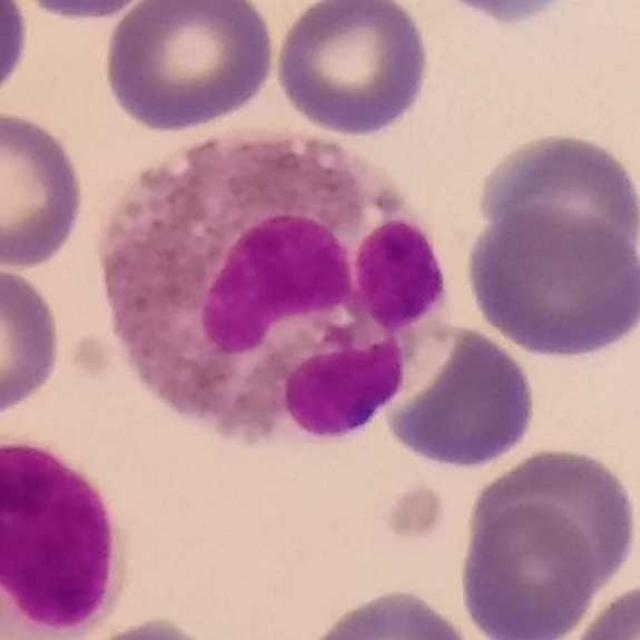eosino: (101, 131, 445, 443)
